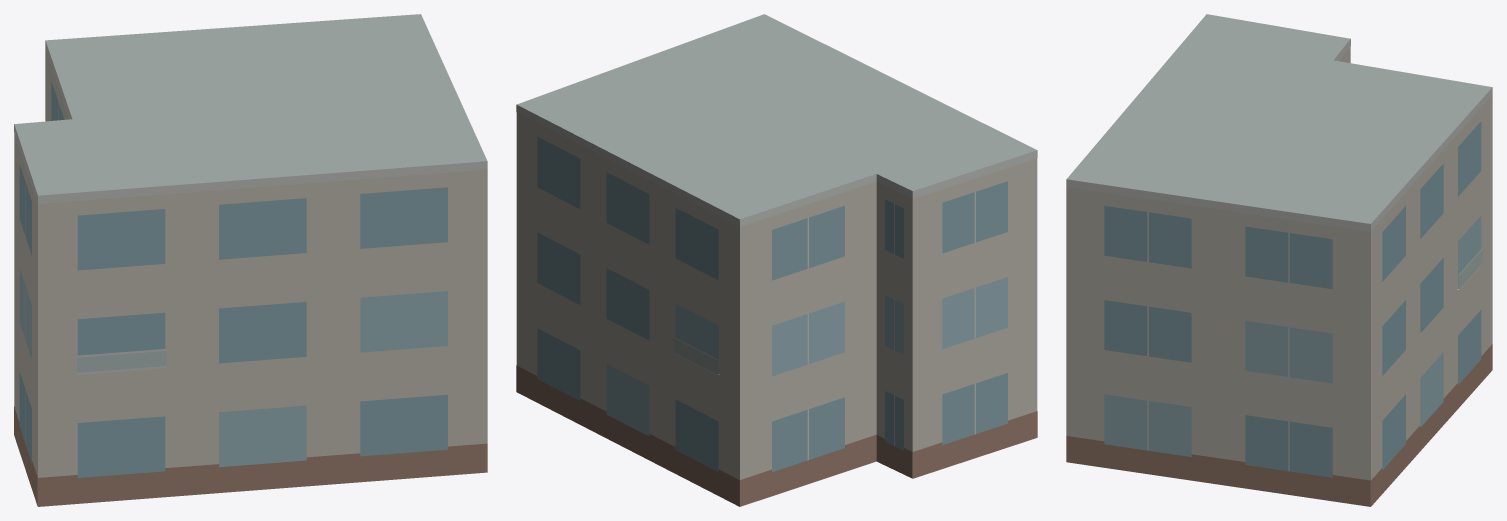
File: survey-upis-32538271.glb
The picture shows the model from 3 angles, left to right: view 1: azimuth 30°, elevation 25°; view 2: azimuth 150°, elevation 25°; view 3: azimuth 270°, elevation 25°; orthographic projection. The views are drawn at different scales.
Visible parts, largest first — view 1: survey-upis-32538271.tmp; view 2: survey-upis-32538271.tmp; view 3: survey-upis-32538271.tmp.
Part boxes in pixels (x1=…): survey-upis-32538271.tmp: x1=14, y1=14, x2=487, y2=506; survey-upis-32538271.tmp: x1=516, y1=14, x2=1037, y2=506; survey-upis-32538271.tmp: x1=1066, y1=14, x2=1492, y2=506.
Bounding box in the file's own units: 14.58 × 9.15 × 12.5.
